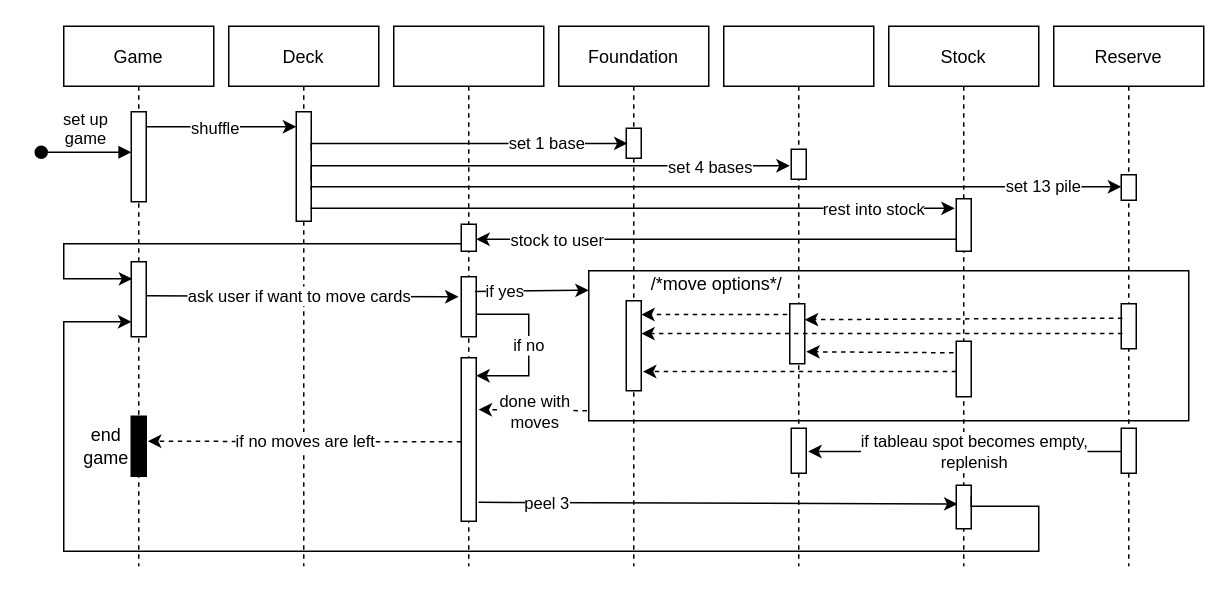
The diagram is 1230 pixels wide and 593 high, and some of its shapes have lost their labels. Here are the shapes that lost their labels. From the top down, the centre of each, then its label:
pixel 468 295: User
pixel 798 295: Tableau
